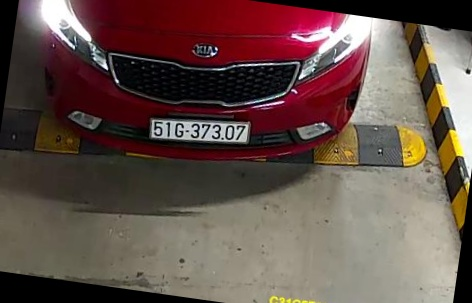plate: (137, 112, 263, 154)
